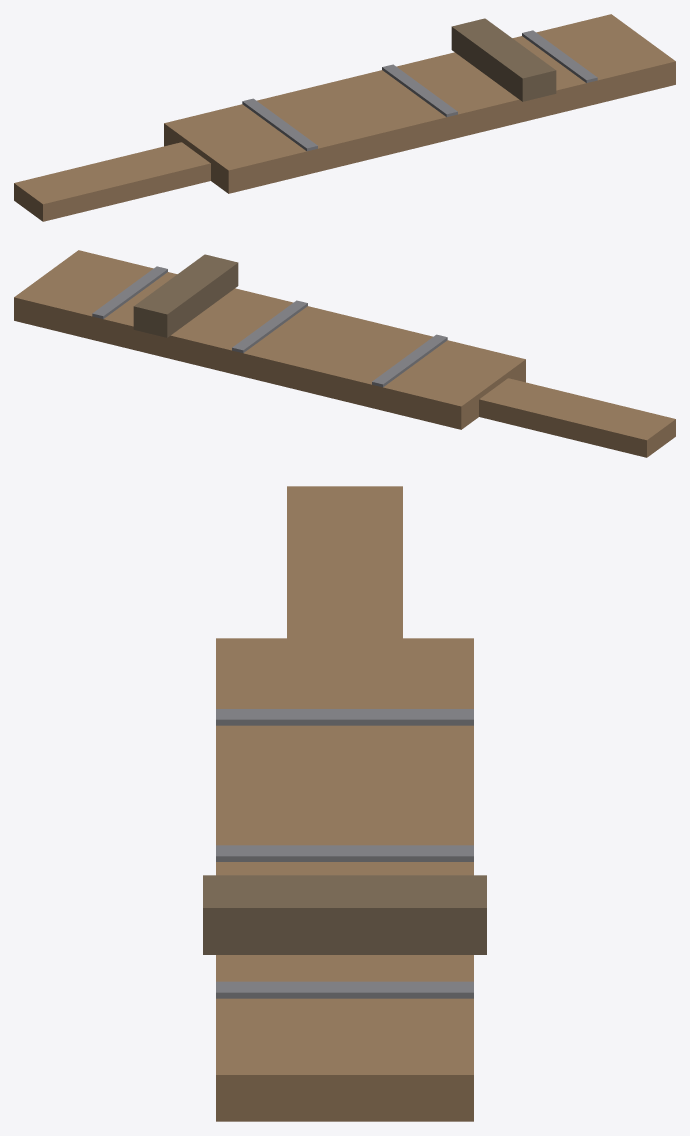
Rendered from prop-netting-gauge.fbx.
3 renders of one model, top to bottom at view 1: azimuth 30°, elevation 25°; view 2: azimuth 150°, elevation 25°; view 3: azimuth 270°, elevation 25°, orthographic. The views are drawn at different scales.
Visible parts, largest first — view 1: prop-netting-gauge; view 2: prop-netting-gauge; view 3: prop-netting-gauge.
Part boxes in pixels (x1,y1,x2,y2): prop-netting-gauge: (14,14,675,221); prop-netting-gauge: (14,250,675,457); prop-netting-gauge: (203,486,486,1121).
Bounding box in the file's own units: 22 × 1.6 × 4.4.
